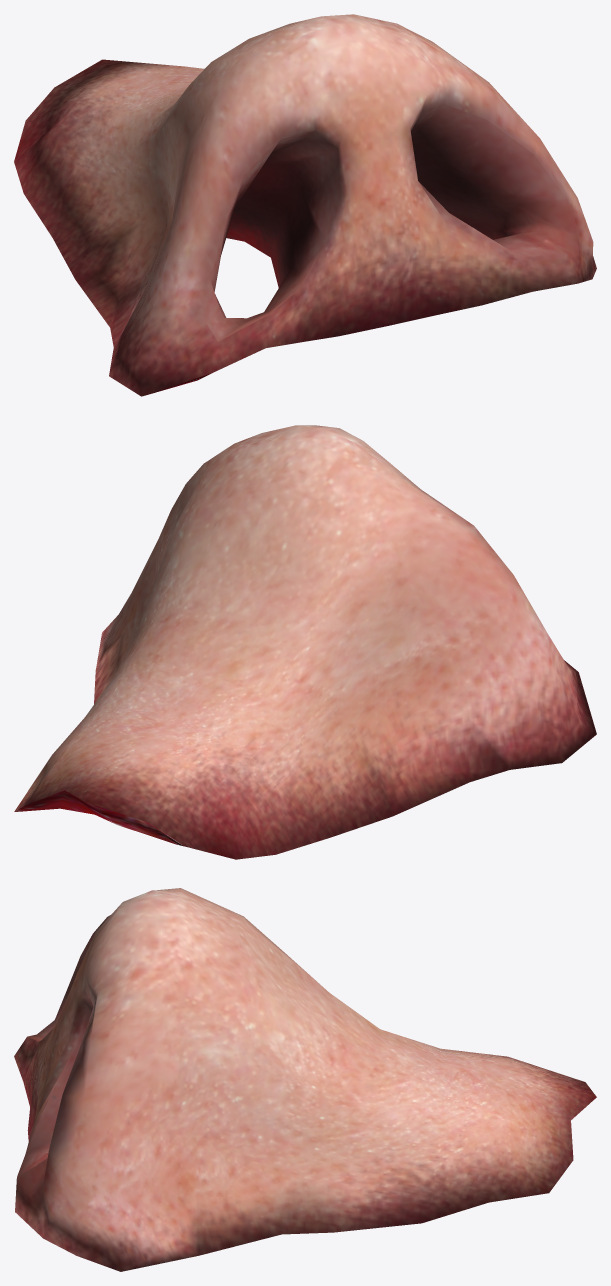
The model's file is Nose_5.fbx.
3 views of the same model, one above another, from view 1: azimuth 30°, elevation 25°; view 2: azimuth 150°, elevation 25°; view 3: azimuth 270°, elevation 25° (orthographic). The views are drawn at different scales.
Visible parts, largest first — view 1: nose_5; view 2: nose_5; view 3: nose_5.
Boxes of the visible parts, x1=… form: nose_5: x1=14, y1=14, x2=596, y2=396; nose_5: x1=14, y1=425, x2=596, y2=859; nose_5: x1=14, y1=888, x2=596, y2=1271.
Bounding box in the file's own units: 0.0394 × 0.0234 × 0.0441.
